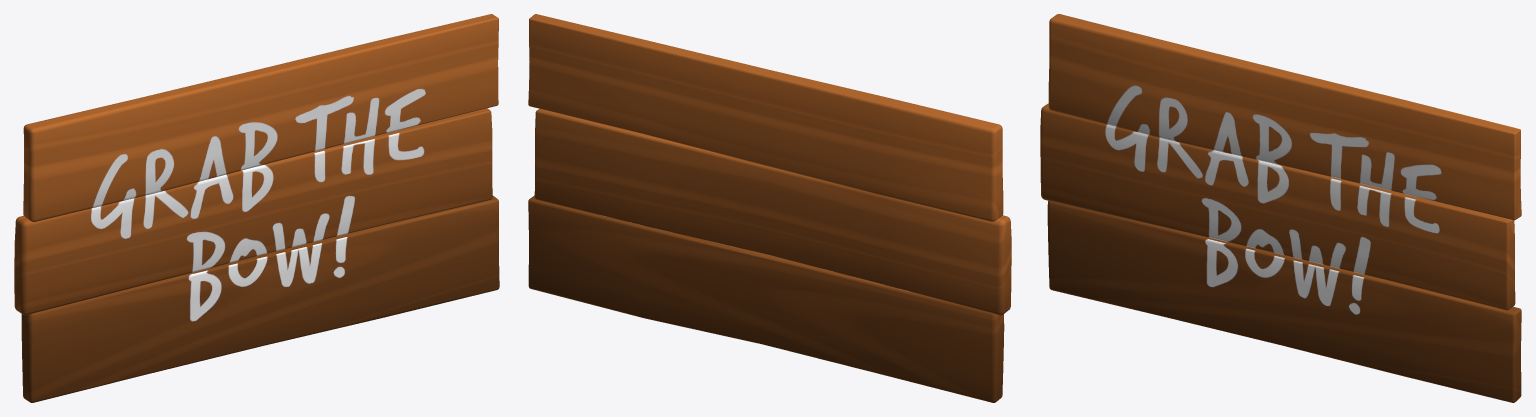
Rendered from grab_bow_sign.fbx.
3 views of the same model, side by side, from view 1: azimuth 30°, elevation 25°; view 2: azimuth 150°, elevation 25°; view 3: azimuth 330°, elevation 25° (orthographic).
Parts seen in each view (by area): view 1: GrabBowSign; view 2: GrabBowSign; view 3: GrabBowSign.
Part boxes in pixels (box(x1,y1,x2,y2)): GrabBowSign: box(14, 14, 499, 402); GrabBowSign: box(528, 14, 1011, 402); GrabBowSign: box(1040, 14, 1521, 402).
Size of the model in its own units: 204 by 112 by 8.52.
Materials: 1 (1 with a texture image).
